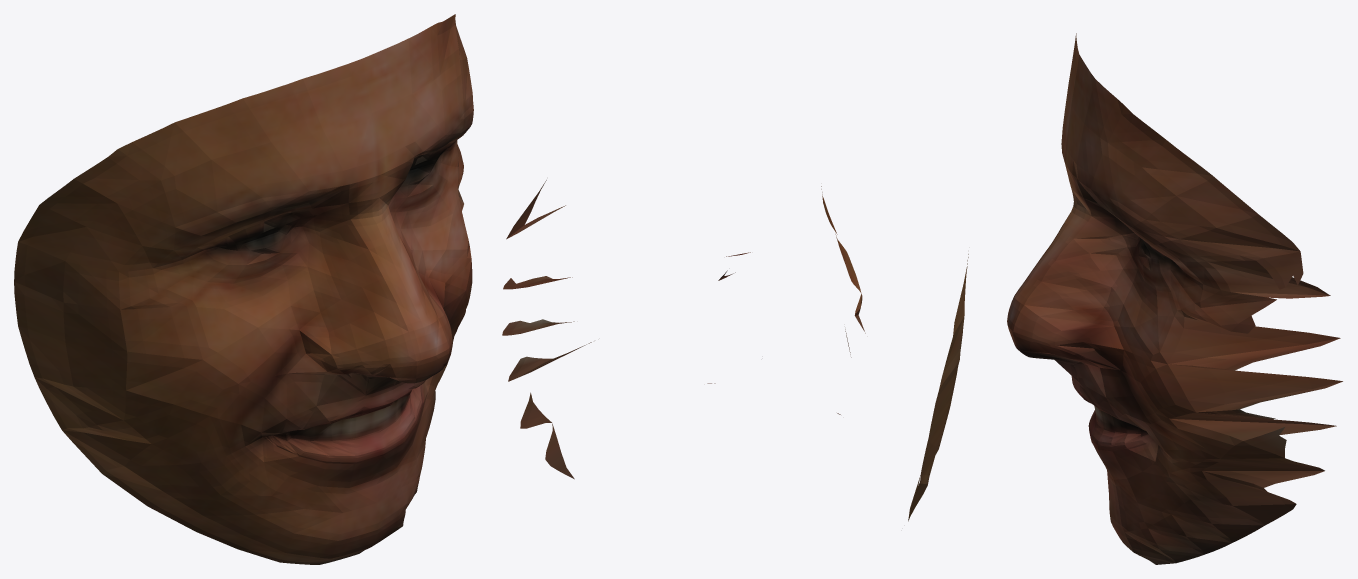
The model's file is fabio-small.glb.
3 views of the same model, side by side, from view 1: azimuth 30°, elevation 25°; view 2: azimuth 150°, elevation 25°; view 3: azimuth 270°, elevation 25° (orthographic). The views are drawn at different scales.
Parts seen in each view (by area): view 1: face; view 2: face; view 3: face.
Boxes of the visible parts, x1,y1,x2,y2 form: face: (14, 14, 473, 564); face: (502, 180, 968, 521); face: (1007, 33, 1342, 564).
Size of the model in its own units: 870 by 1019 by 636.
Materials: 1 (1 with a texture image).
